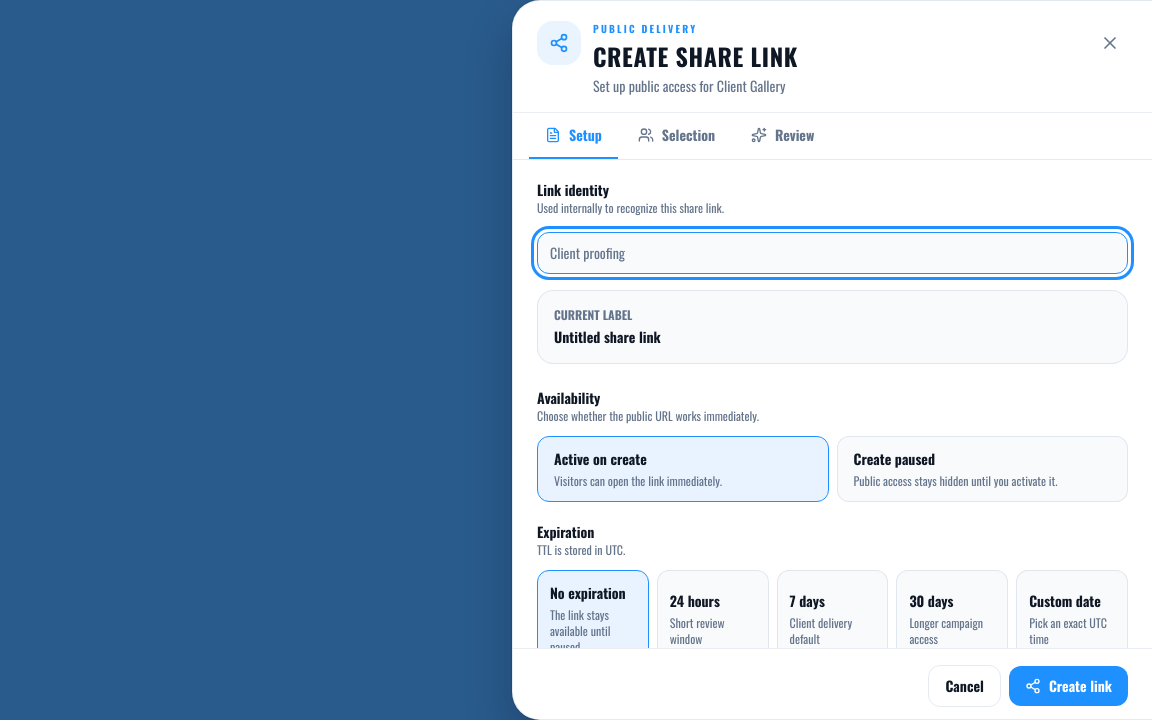
ShareLinkSettingsModal › keeps the created-link recovery state open when selection settings fail to save
The width and height of the screenshot is (1152, 720).
Click the tab "Selection" at [676, 136], box [622,113,731,159]
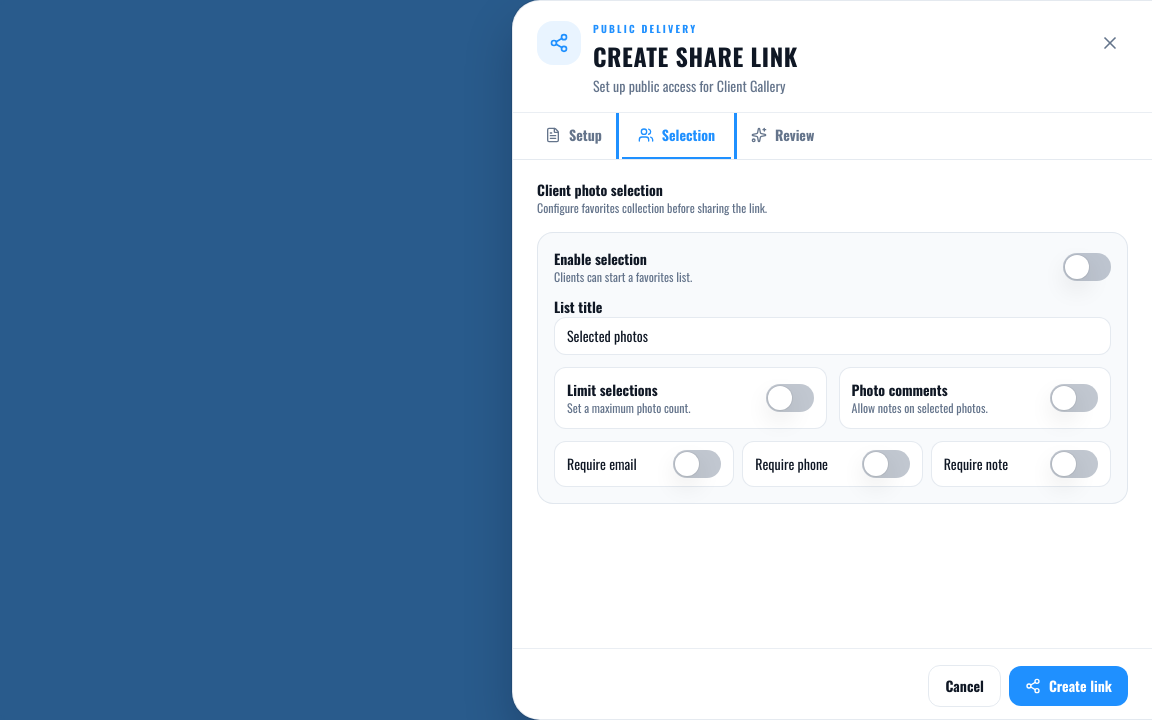
Click the switch named "enable client photo selection" at [1087, 267], box [1063,253,1111,281]
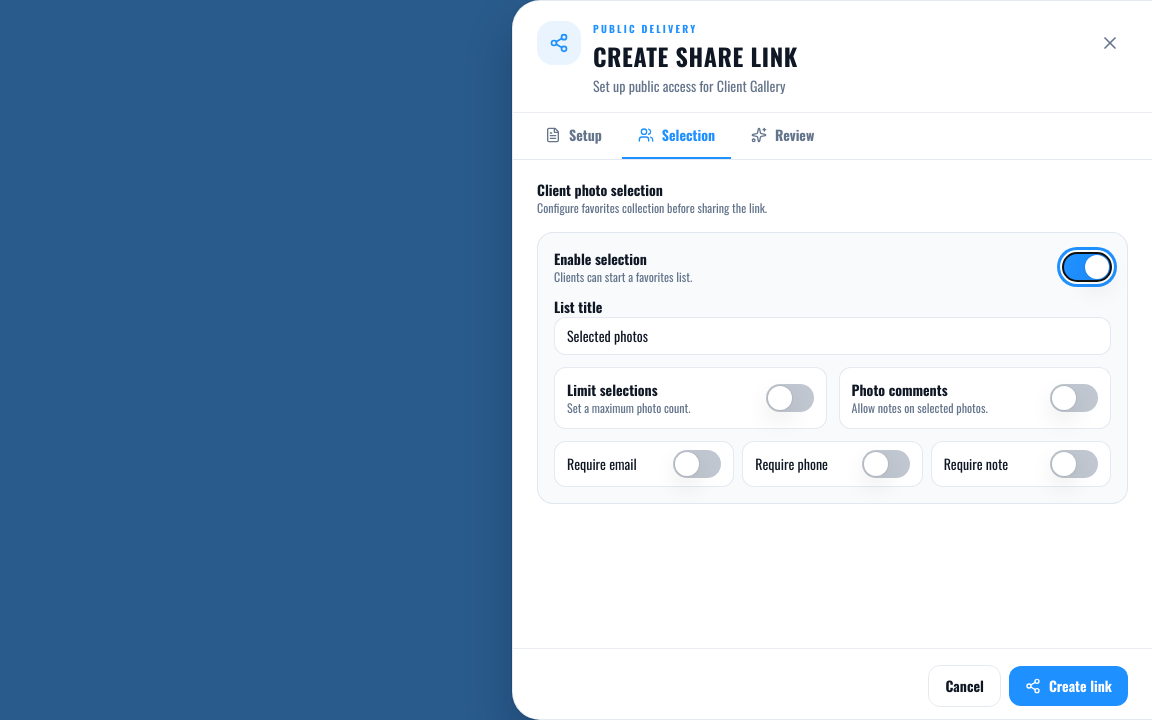
Click the button "Create link" at [1068, 686], box [1009,666,1128,706]
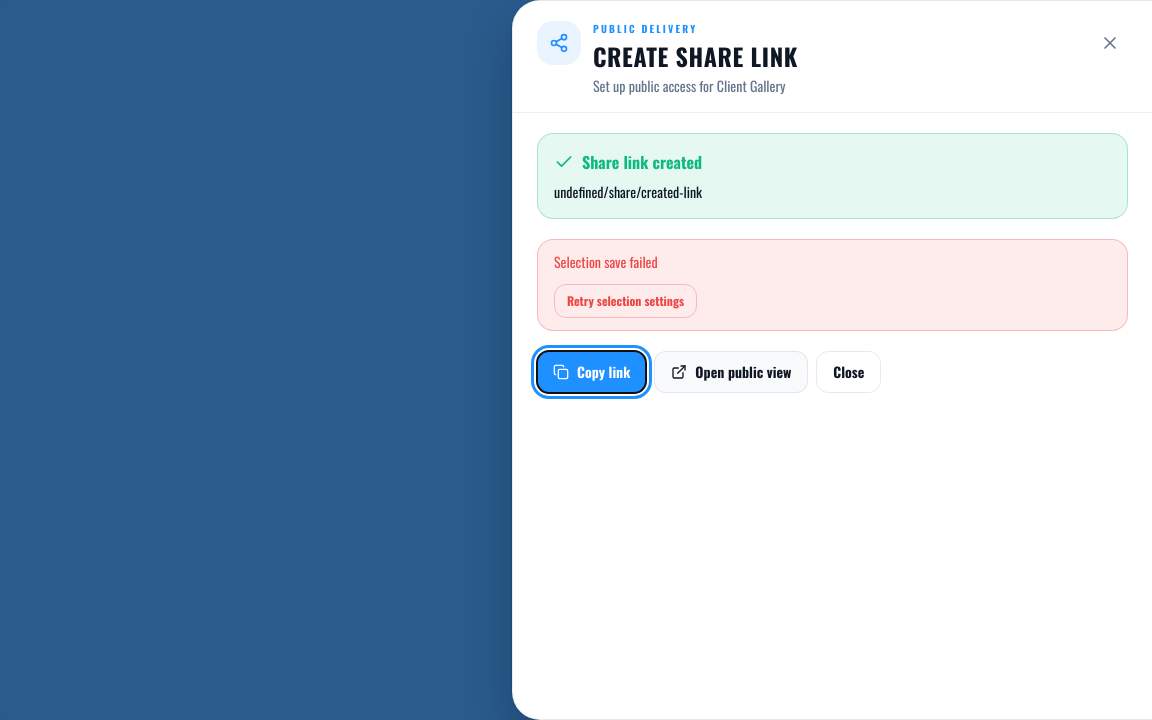
Result: the text "Share link created" is shown at [554,150,702,174]
Result: the text "Selection save failed" is shown at [554,251,658,272]
